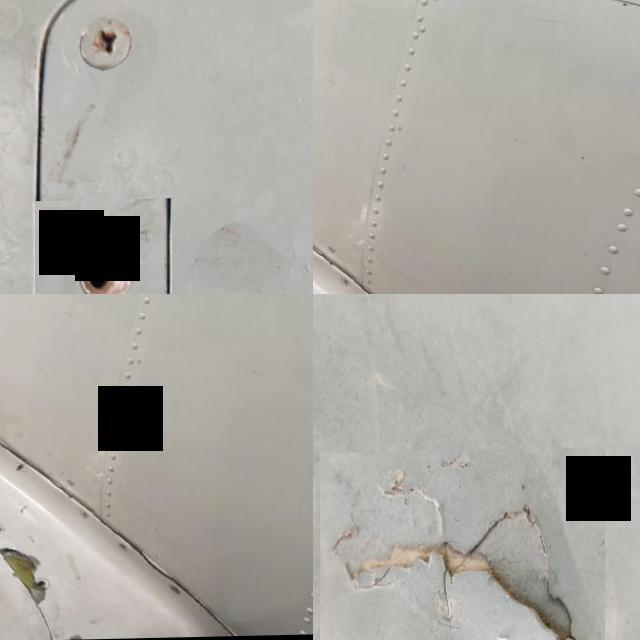Crack: (320, 449, 605, 640), (132, 536, 211, 604)
Missing_Fastener: (34, 199, 172, 294), (115, 544, 130, 554), (16, 464, 25, 472)
